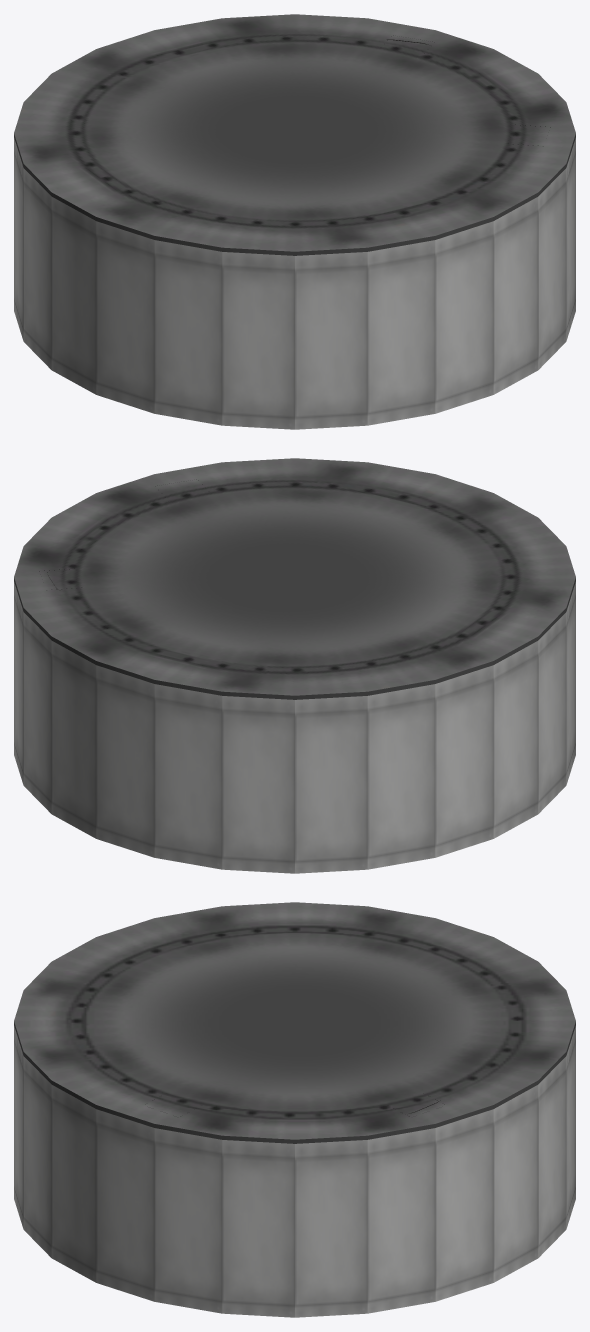
The model's file is Apollo_Block3_ServiceEngine.dae.
The picture shows the model from 3 angles, top to bottom: view 1: azimuth 30°, elevation 25°; view 2: azimuth 150°, elevation 25°; view 3: azimuth 270°, elevation 25°; orthographic projection.
Parts seen in each view (by area): view 1: polySurface29, fairing, Apollo_ServiceEngine_Merged_Apollo_ServiceEngineMesh_group1; view 2: polySurface29, fairing, Apollo_ServiceEngine_Merged_Apollo_ServiceEngineMesh_group1; view 3: polySurface29, fairing, Apollo_ServiceEngine_Merged_Apollo_ServiceEngineMesh_group1.
Part boxes in pixels (box(x1,y1,x2,y2)): polySurface29: box(14, 14, 575, 251); fairing: box(14, 138, 575, 429); Apollo_ServiceEngine_Merged_Apollo_ServiceEngineMesh_group1: box(14, 35, 575, 255); polySurface29: box(14, 458, 575, 695); fairing: box(14, 582, 575, 873); Apollo_ServiceEngine_Merged_Apollo_ServiceEngineMesh_group1: box(14, 479, 575, 699); polySurface29: box(14, 902, 575, 1139); fairing: box(14, 1026, 575, 1317); Apollo_ServiceEngine_Merged_Apollo_ServiceEngineMesh_group1: box(14, 1022, 575, 1143).
Size of what is drawn, in the model's own units: 2.5 by 0.876 by 2.5.
